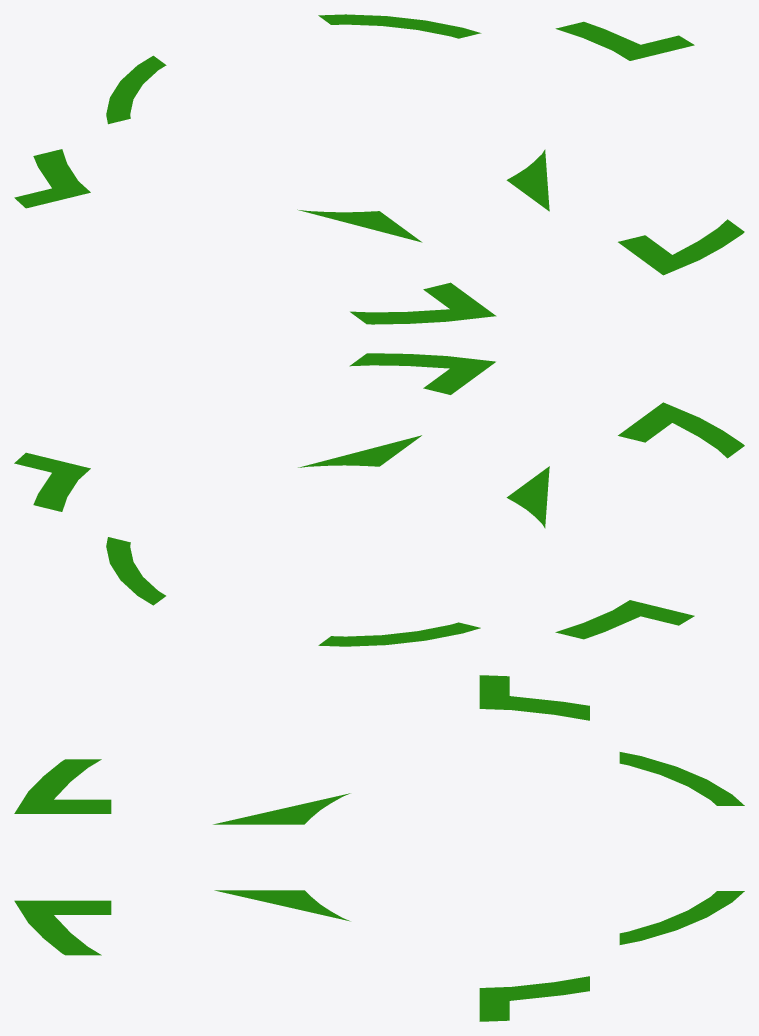
File: mesh_1002_sjzm_caodi.FBX
3 renders of one model, top to bottom at view 1: azimuth 30°, elevation 25°; view 2: azimuth 150°, elevation 25°; view 3: azimuth 270°, elevation 25°, orthographic. The views are drawn at different scales.
Visible parts, largest first — view 1: mesh_1002_sjzm_caodi; view 2: mesh_1002_sjzm_caodi; view 3: mesh_1002_sjzm_caodi.
Part boxes in pixels (<box>): mesh_1002_sjzm_caodi: <box>14,14,744,324</box>; mesh_1002_sjzm_caodi: <box>14,353,744,646</box>; mesh_1002_sjzm_caodi: <box>14,675,744,1021</box>.
Bounding box in the file's own units: 2242 × 26.64 × 1998.
